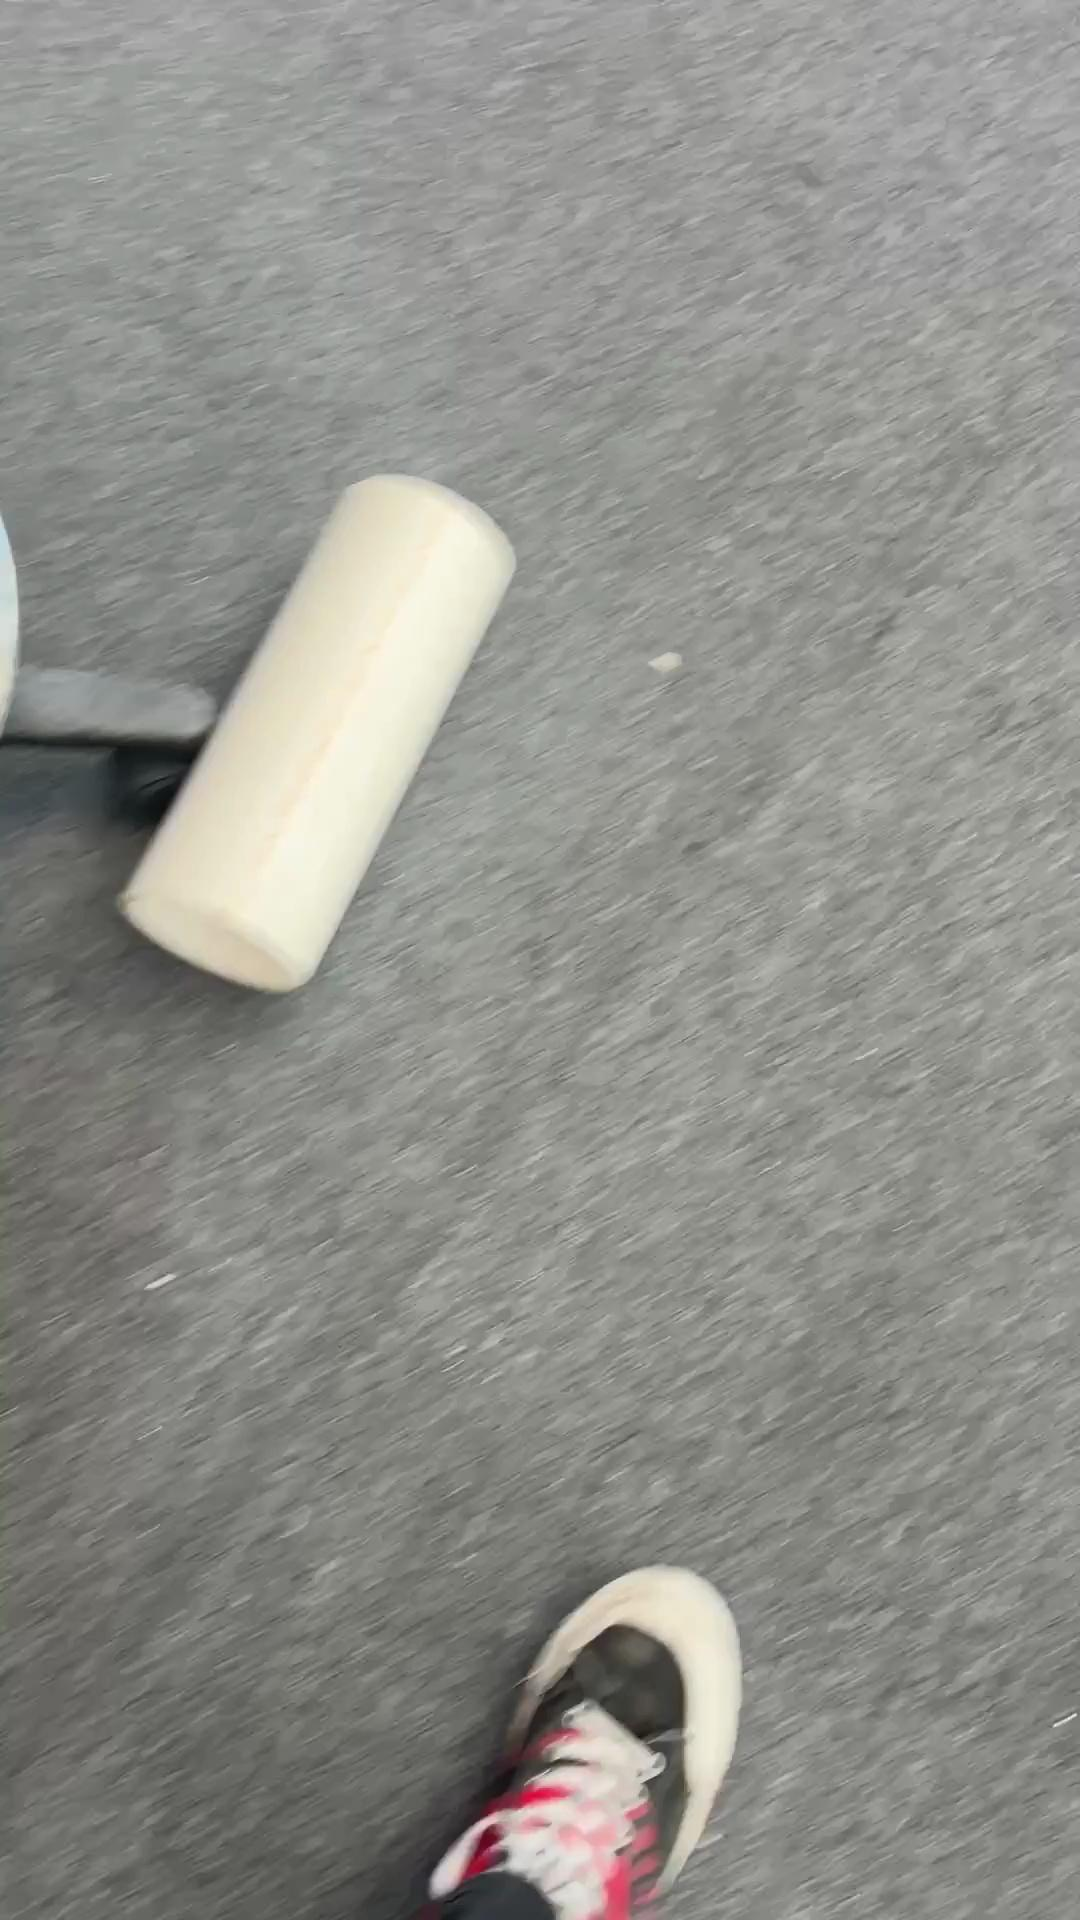CORAL: (114, 468, 517, 995)
